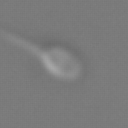normal: (1, 26, 42, 58)
